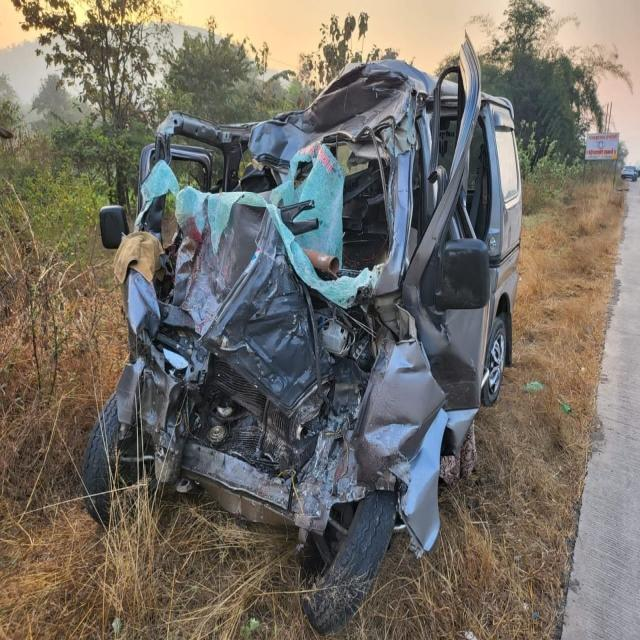accident: (82, 38, 522, 633)
